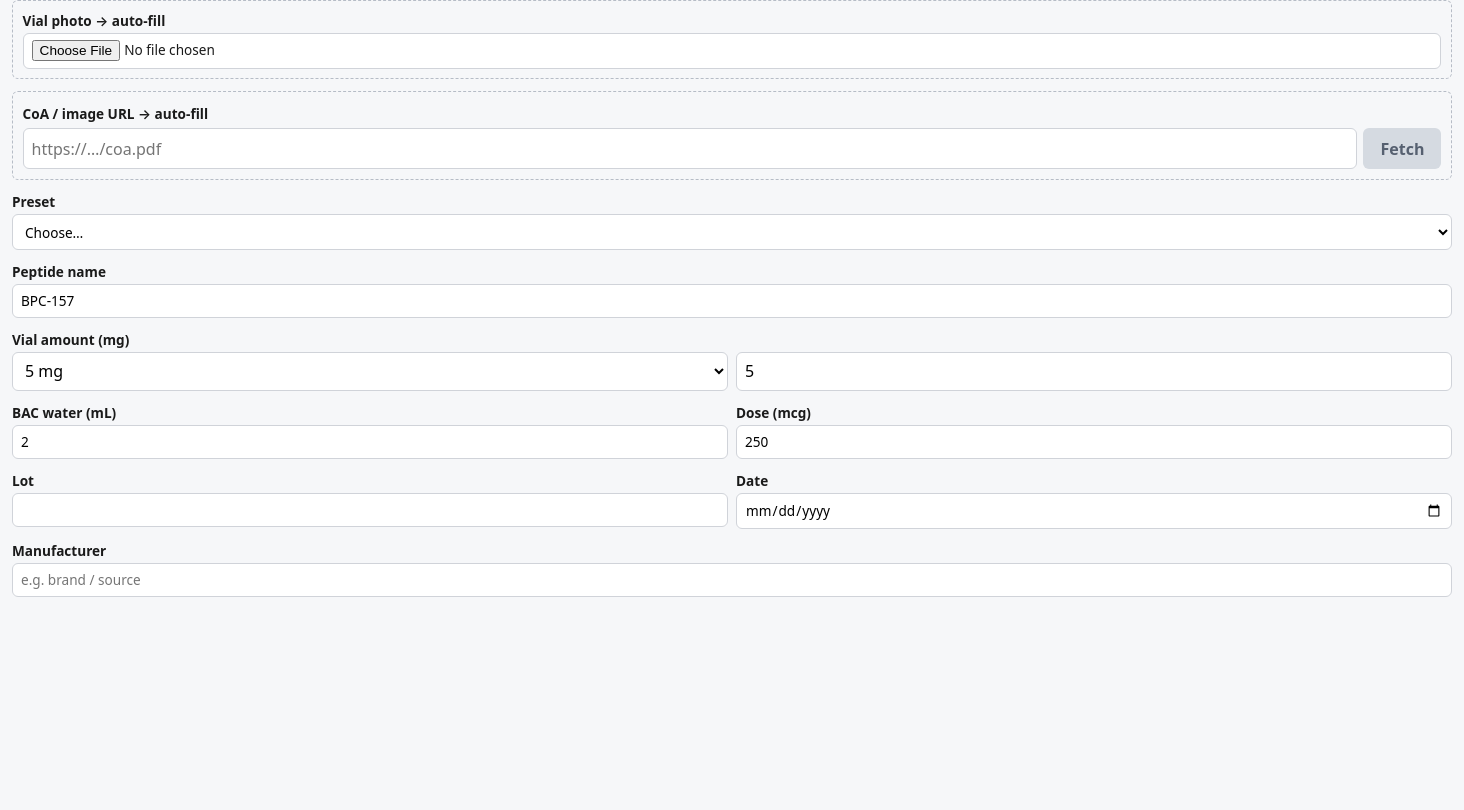
LabelForm › keeps Fetch disabled until a URL is entered
The image size is (1464, 810).
expect the button "Fetch" is disabled: met, box [1364,128,1441,169]
Type "https://x.io/a.png" into the field named "CoA / image URL → auto-fill". click: x=690, y=149
box: [23,128,1357,169]
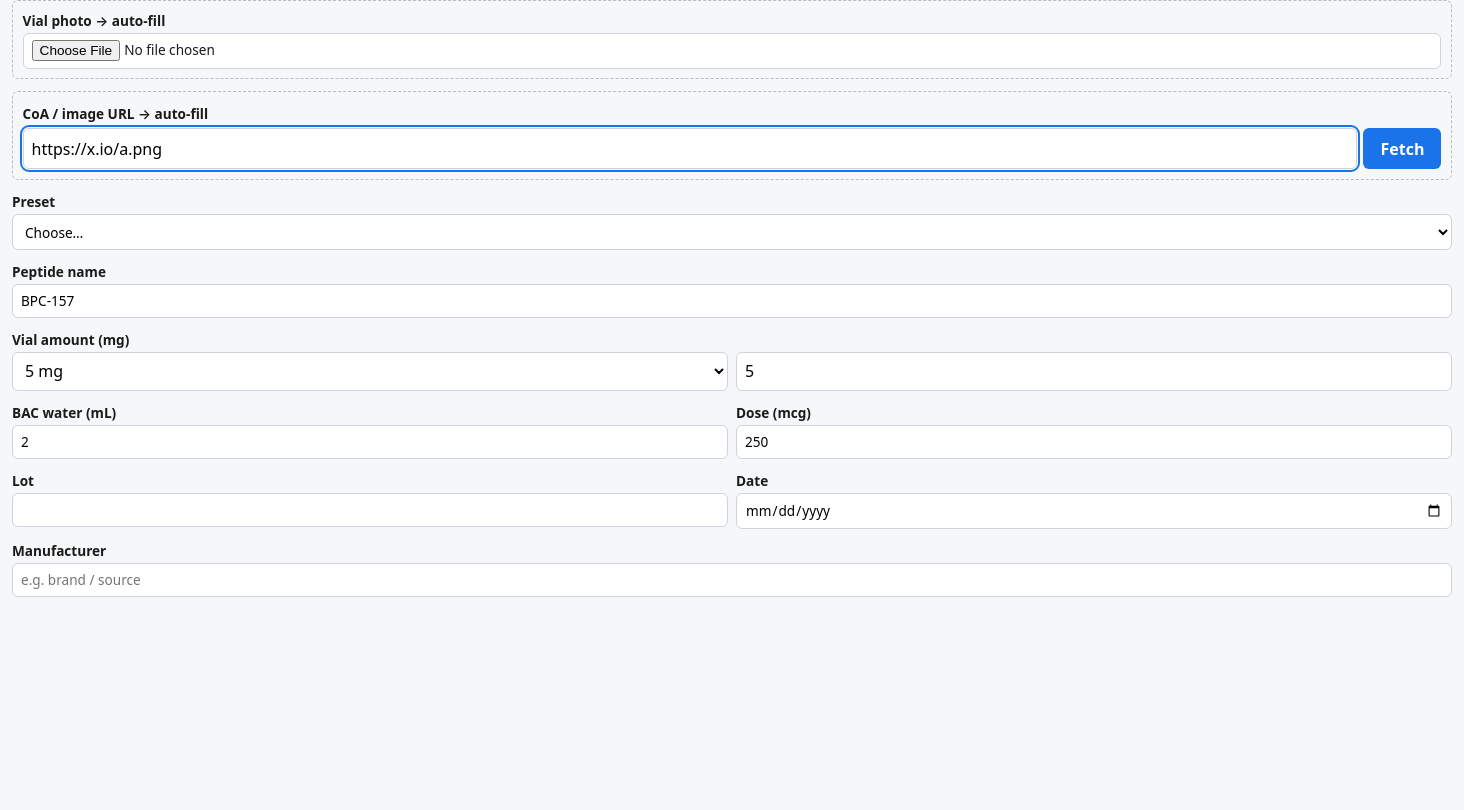
expect the button "Fetch" is enabled: met, box [1364,128,1441,169]
